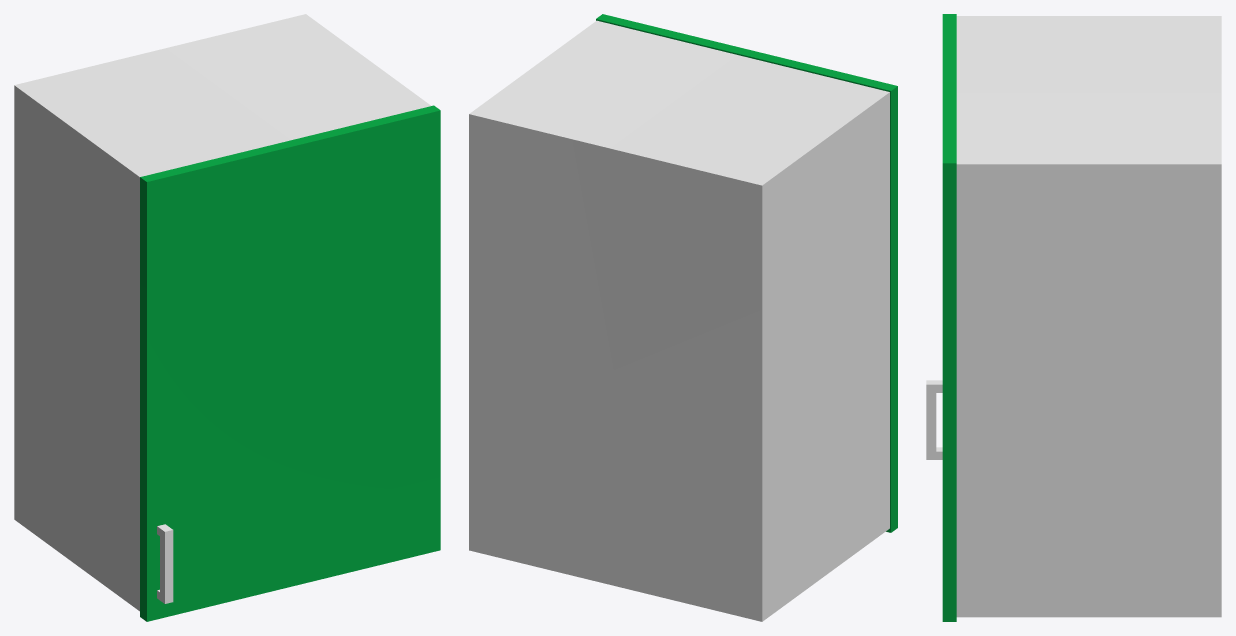
Rendered from kitchen_item_051.glb.
3 views of the same model, side by side, from view 1: azimuth 30°, elevation 25°; view 2: azimuth 150°, elevation 25°; view 3: azimuth 270°, elevation 25° (orthographic). The views are drawn at different scales.
Parts seen in each view (by area): view 1: kitchen_item_051; view 2: kitchen_item_051; view 3: kitchen_item_051.
Part boxes in pixels (left/top/right/bottom): kitchen_item_051: left=14, top=14, right=440, bottom=621; kitchen_item_051: left=469, top=14, right=897, bottom=621; kitchen_item_051: left=926, top=14, right=1221, bottom=621.
Size of the model in its own units: 0.6195 by 0.8859 by 0.5174.
1 material, 1 textured.
